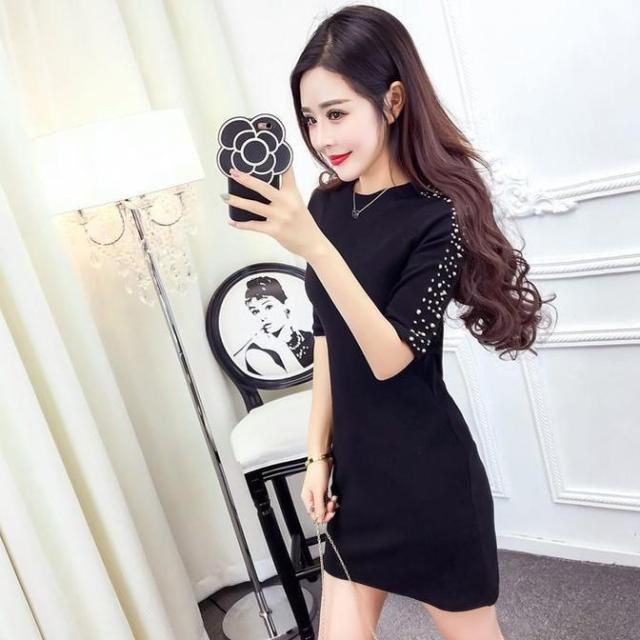dress: (301, 179, 501, 612)
